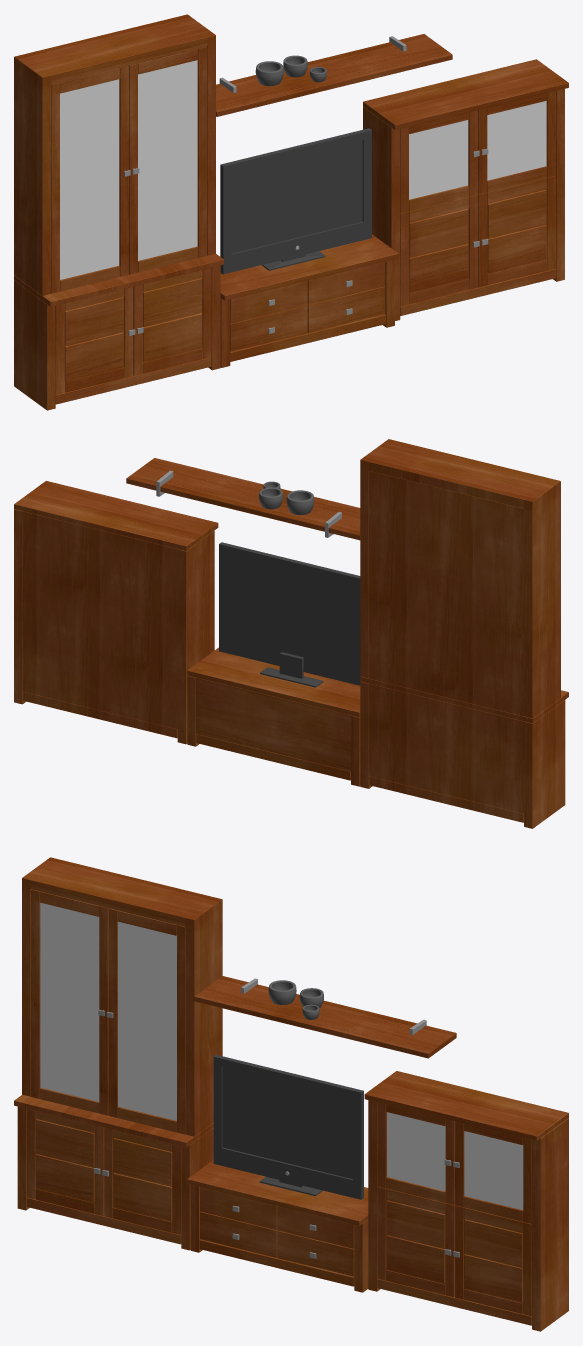
Rendered from contemp_living_room.glb.
The picture shows the model from 3 angles, top to bottom: view 1: azimuth 30°, elevation 25°; view 2: azimuth 150°, elevation 25°; view 3: azimuth 330°, elevation 25°; orthographic projection.
Parts seen in each view (by area): view 1: big_sideboard_Cube, sideboard_Cube.002, tv_Cube.018, closet_Cube.001, shelf_Cube.003, bowl1_Circle.002; view 2: big_sideboard_Cube, sideboard_Cube.002, tv_Cube.018, closet_Cube.001, shelf_Cube.003, bowl1_Circle.002; view 3: big_sideboard_Cube, sideboard_Cube.002, tv_Cube.018, closet_Cube.001, shelf_Cube.003, bowl1_Circle.002.
Boxes of the visible parts, left/top/right/bottom form: big_sideboard_Cube: left=14, top=14, right=224, bottom=410; sideboard_Cube.002: left=363, top=59, right=568, bottom=320; tv_Cube.018: left=220, top=128, right=371, bottom=274; closet_Cube.001: left=220, top=234, right=398, bottom=367; shelf_Cube.003: left=216, top=34, right=452, bottom=116; bowl1_Circle.002: left=255, top=61, right=283, bottom=86; big_sideboard_Cube: left=360, top=439, right=568, bottom=828; sideboard_Cube.002: left=14, top=481, right=218, bottom=744; tv_Cube.018: left=219, top=542, right=360, bottom=687; closet_Cube.001: left=187, top=647, right=360, bottom=786; shelf_Cube.003: left=126, top=458, right=360, bottom=540; bowl1_Circle.002: left=286, top=490, right=314, bottom=515; big_sideboard_Cube: left=14, top=857, right=222, bottom=1250; sideboard_Cube.002: left=364, top=1071, right=568, bottom=1331; tv_Cube.018: left=213, top=1054, right=363, bottom=1199; closet_Cube.001: left=187, top=1160, right=368, bottom=1292; shelf_Cube.003: left=194, top=976, right=456, bottom=1058; bowl1_Circle.002: left=268, top=980, right=296, bottom=1004.
Bounding box in the file's own units: 3.31 × 1.99 × 0.4037.
8 materials, 2 textured.
